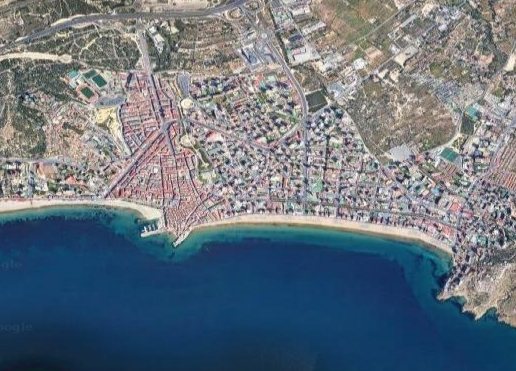harbor: (137, 213, 199, 252)
industrial: (272, 2, 322, 58)
motorway: (1, 17, 72, 50), (71, 6, 171, 26), (172, 1, 269, 21)
